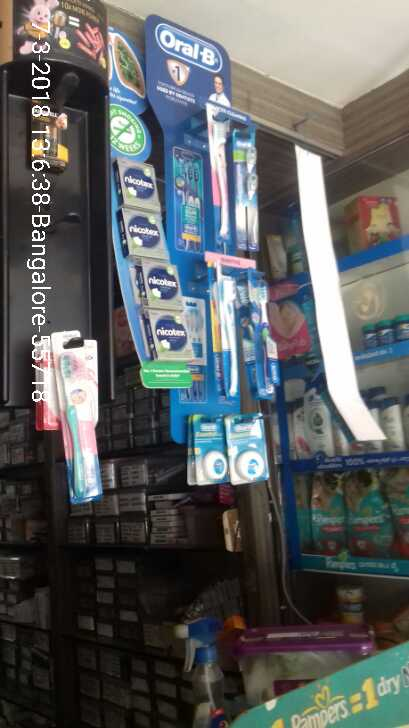oralb: (206, 268, 249, 396), (249, 277, 285, 398), (208, 107, 237, 252), (235, 136, 266, 243)
